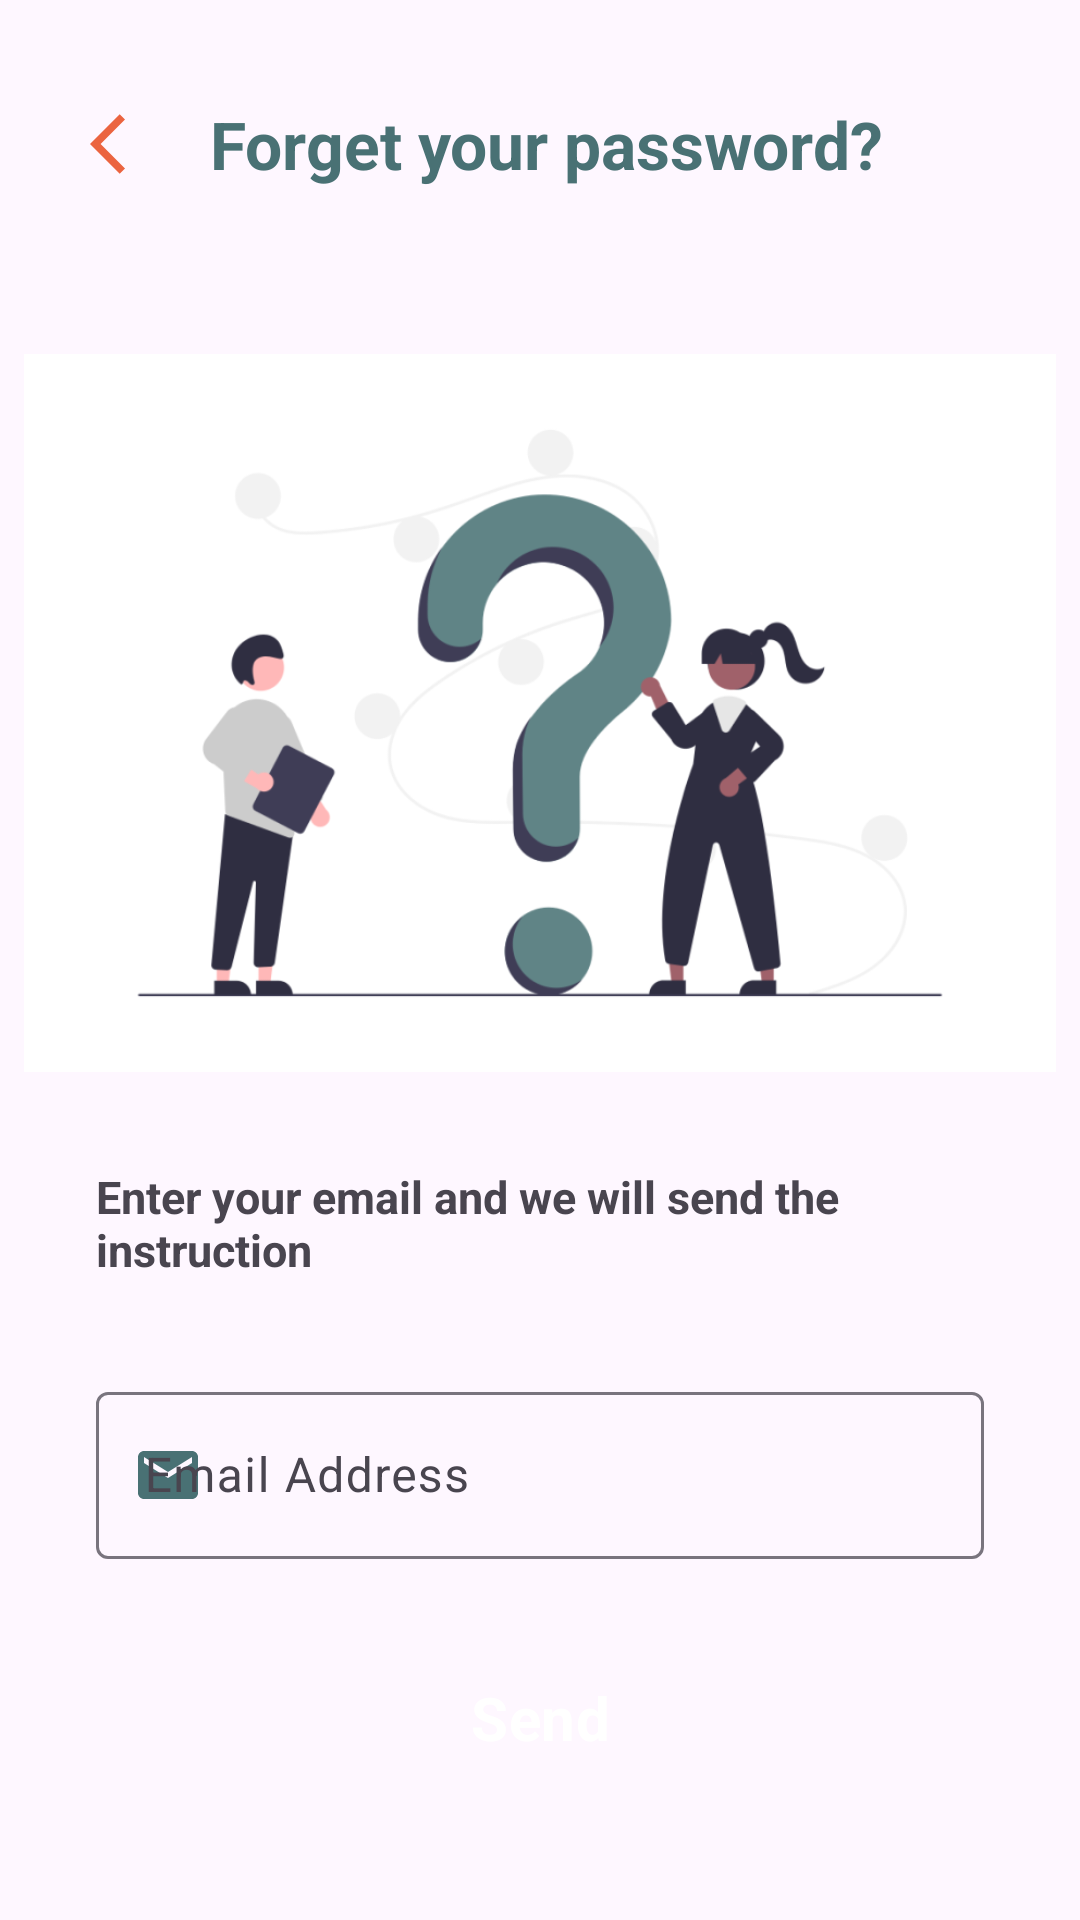

Named icons in this screenshot (1080*1920) and their centers, (x,y):
back arrow: (107,144)
